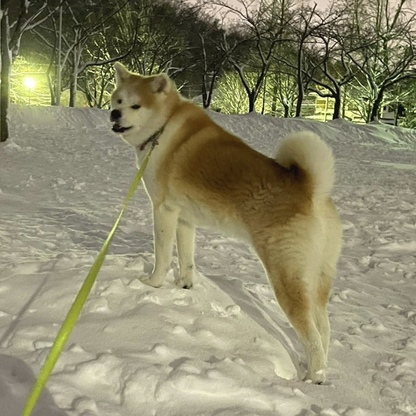akita: (101, 54, 347, 391)
